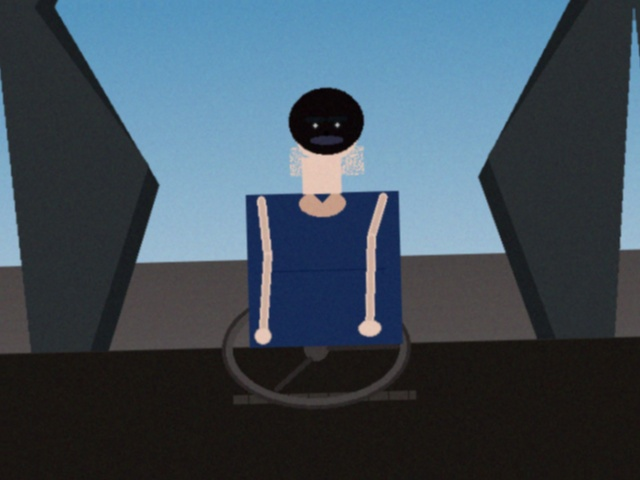normal_driving: (95, 208, 313, 348)
